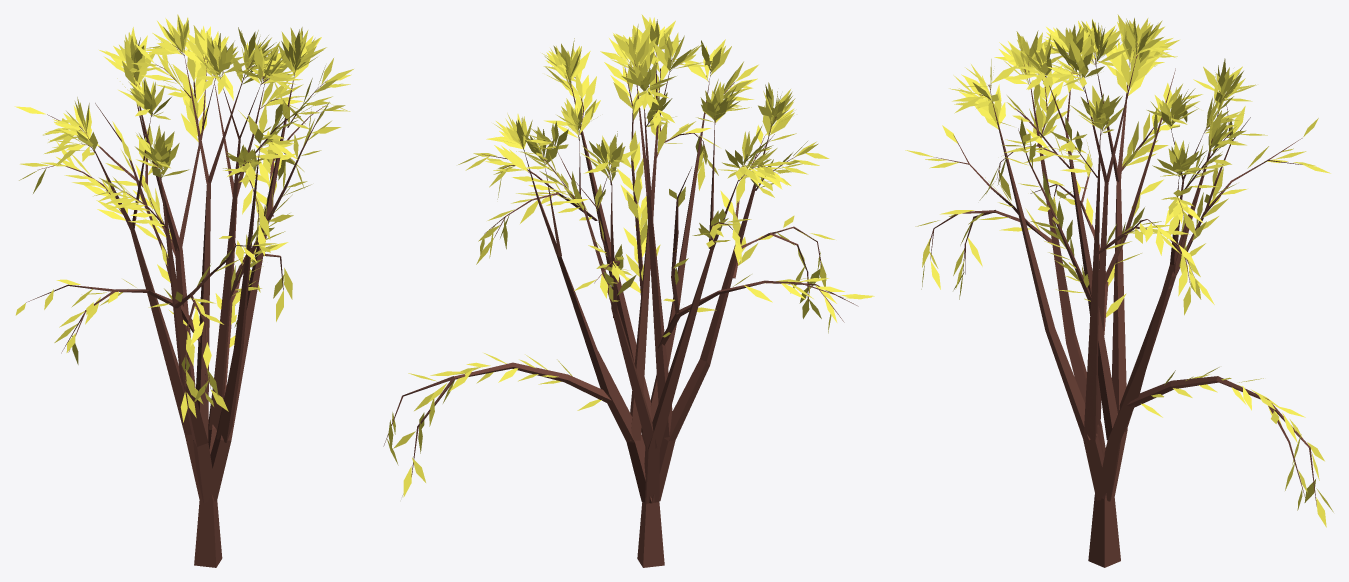
File: tree_12.fbx
The picture shows the model from 3 angles, left to right: view 1: azimuth 30°, elevation 25°; view 2: azimuth 150°, elevation 25°; view 3: azimuth 270°, elevation 25°; orthographic projection. The views are drawn at different scales.
Visible parts, largest first — view 1: tree; view 2: tree; view 3: tree.
Part boxes in pixels (x1=…): tree: x1=14, y1=14, x2=353, y2=567; tree: x1=383, y1=14, x2=874, y2=567; tree: x1=905, y1=14, x2=1333, y2=567.
Size of the model in its own units: 387 by 512 by 370.
